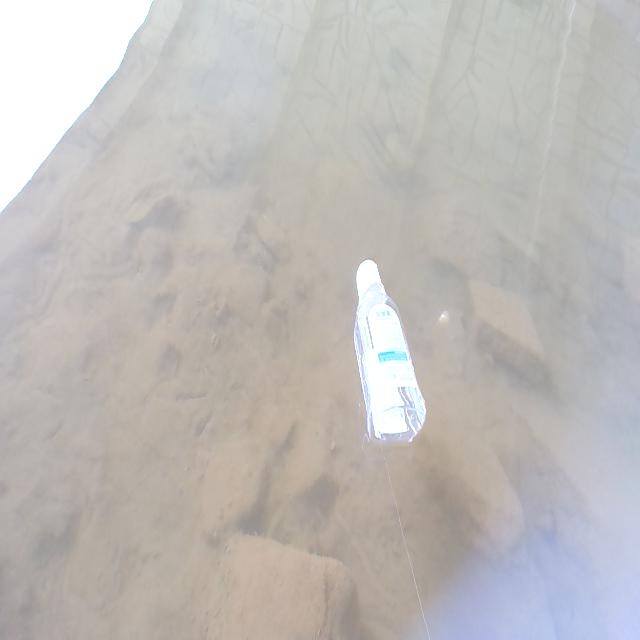bottle: (337, 225, 442, 472)
